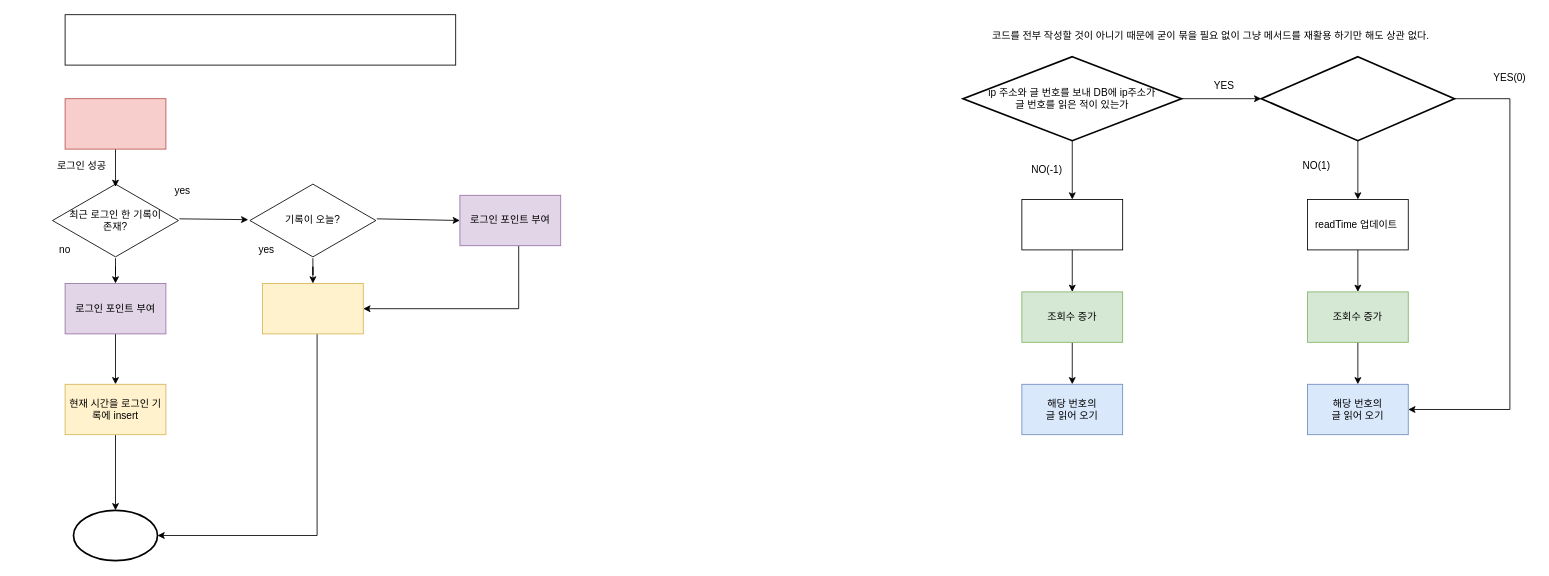
Image size: 1549x576. Some labels were removed from this diagram. The shapes that lost their labels are listed below. From the top down, each one's centre as x and y in pixels, then its label:
(x=260, y=39): 순서도에서 판단문을 그릴 때는 if 또는 else 두 가지 경우로만 그려야 한다
(x=1357, y=98): 읽었던 시간이 24시간 이내?
(x=115, y=123): 로그인 처리
(x=1072, y=224): ip 주소, 글번호 , readTime insert
(x=312, y=308): 현재 시간을 로그인 기록에 update
(x=115, y=535): 로그인 처리 완료
